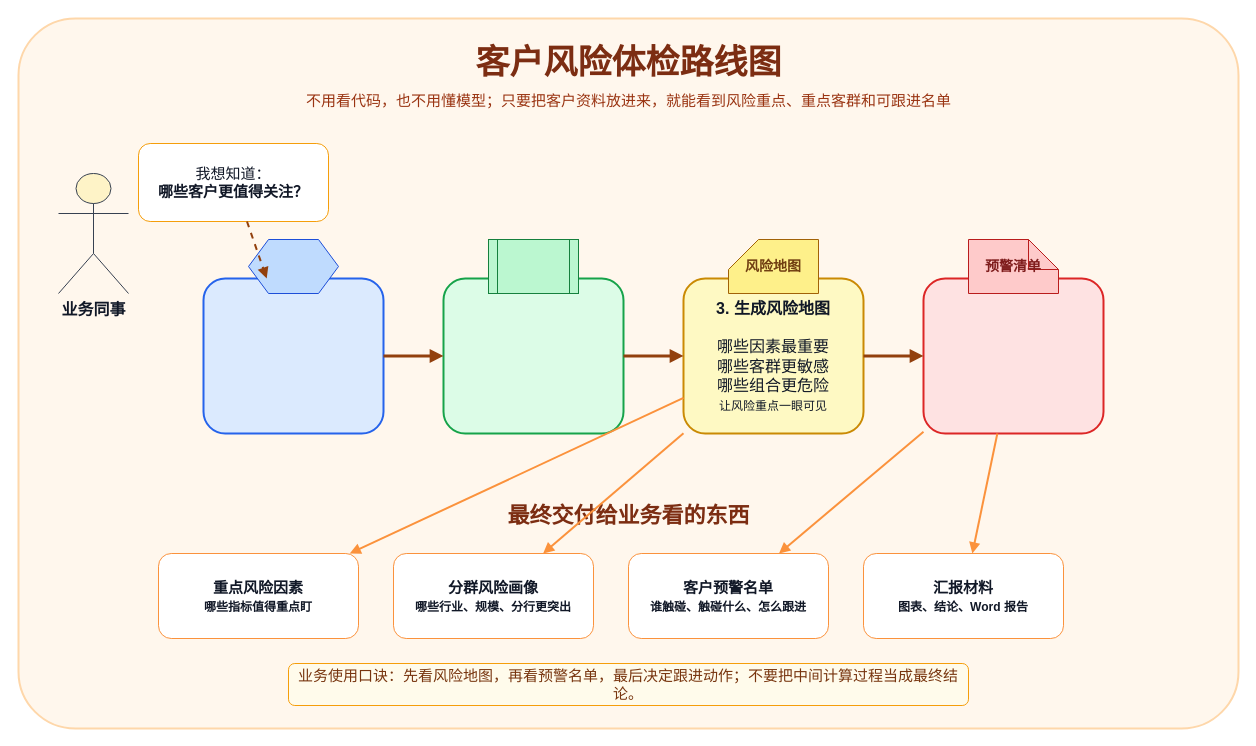
Image size: 1256x746. Some labels were removed from this diagram. Each missing label, with the centre of its shape:
"1. 放入资料篮 客户宽表 坏客户名单 分群字段 例如企业规模、行业、分行" belongs at pixel 293 355.
"2. 自动做体检 看每个指标 和坏客户的关系 找出异常特征 系统自动计算，不需要手工筛表" belongs at pixel 533 355.
"4. 形成预警名单 客户触碰了什么风险 触碰多少条 风险分大概多高 便于客户经理逐户跟进" belongs at pixel 1013 355.
"体检台" belongs at pixel 533 266.
"资料篮" belongs at pixel 293 266.
